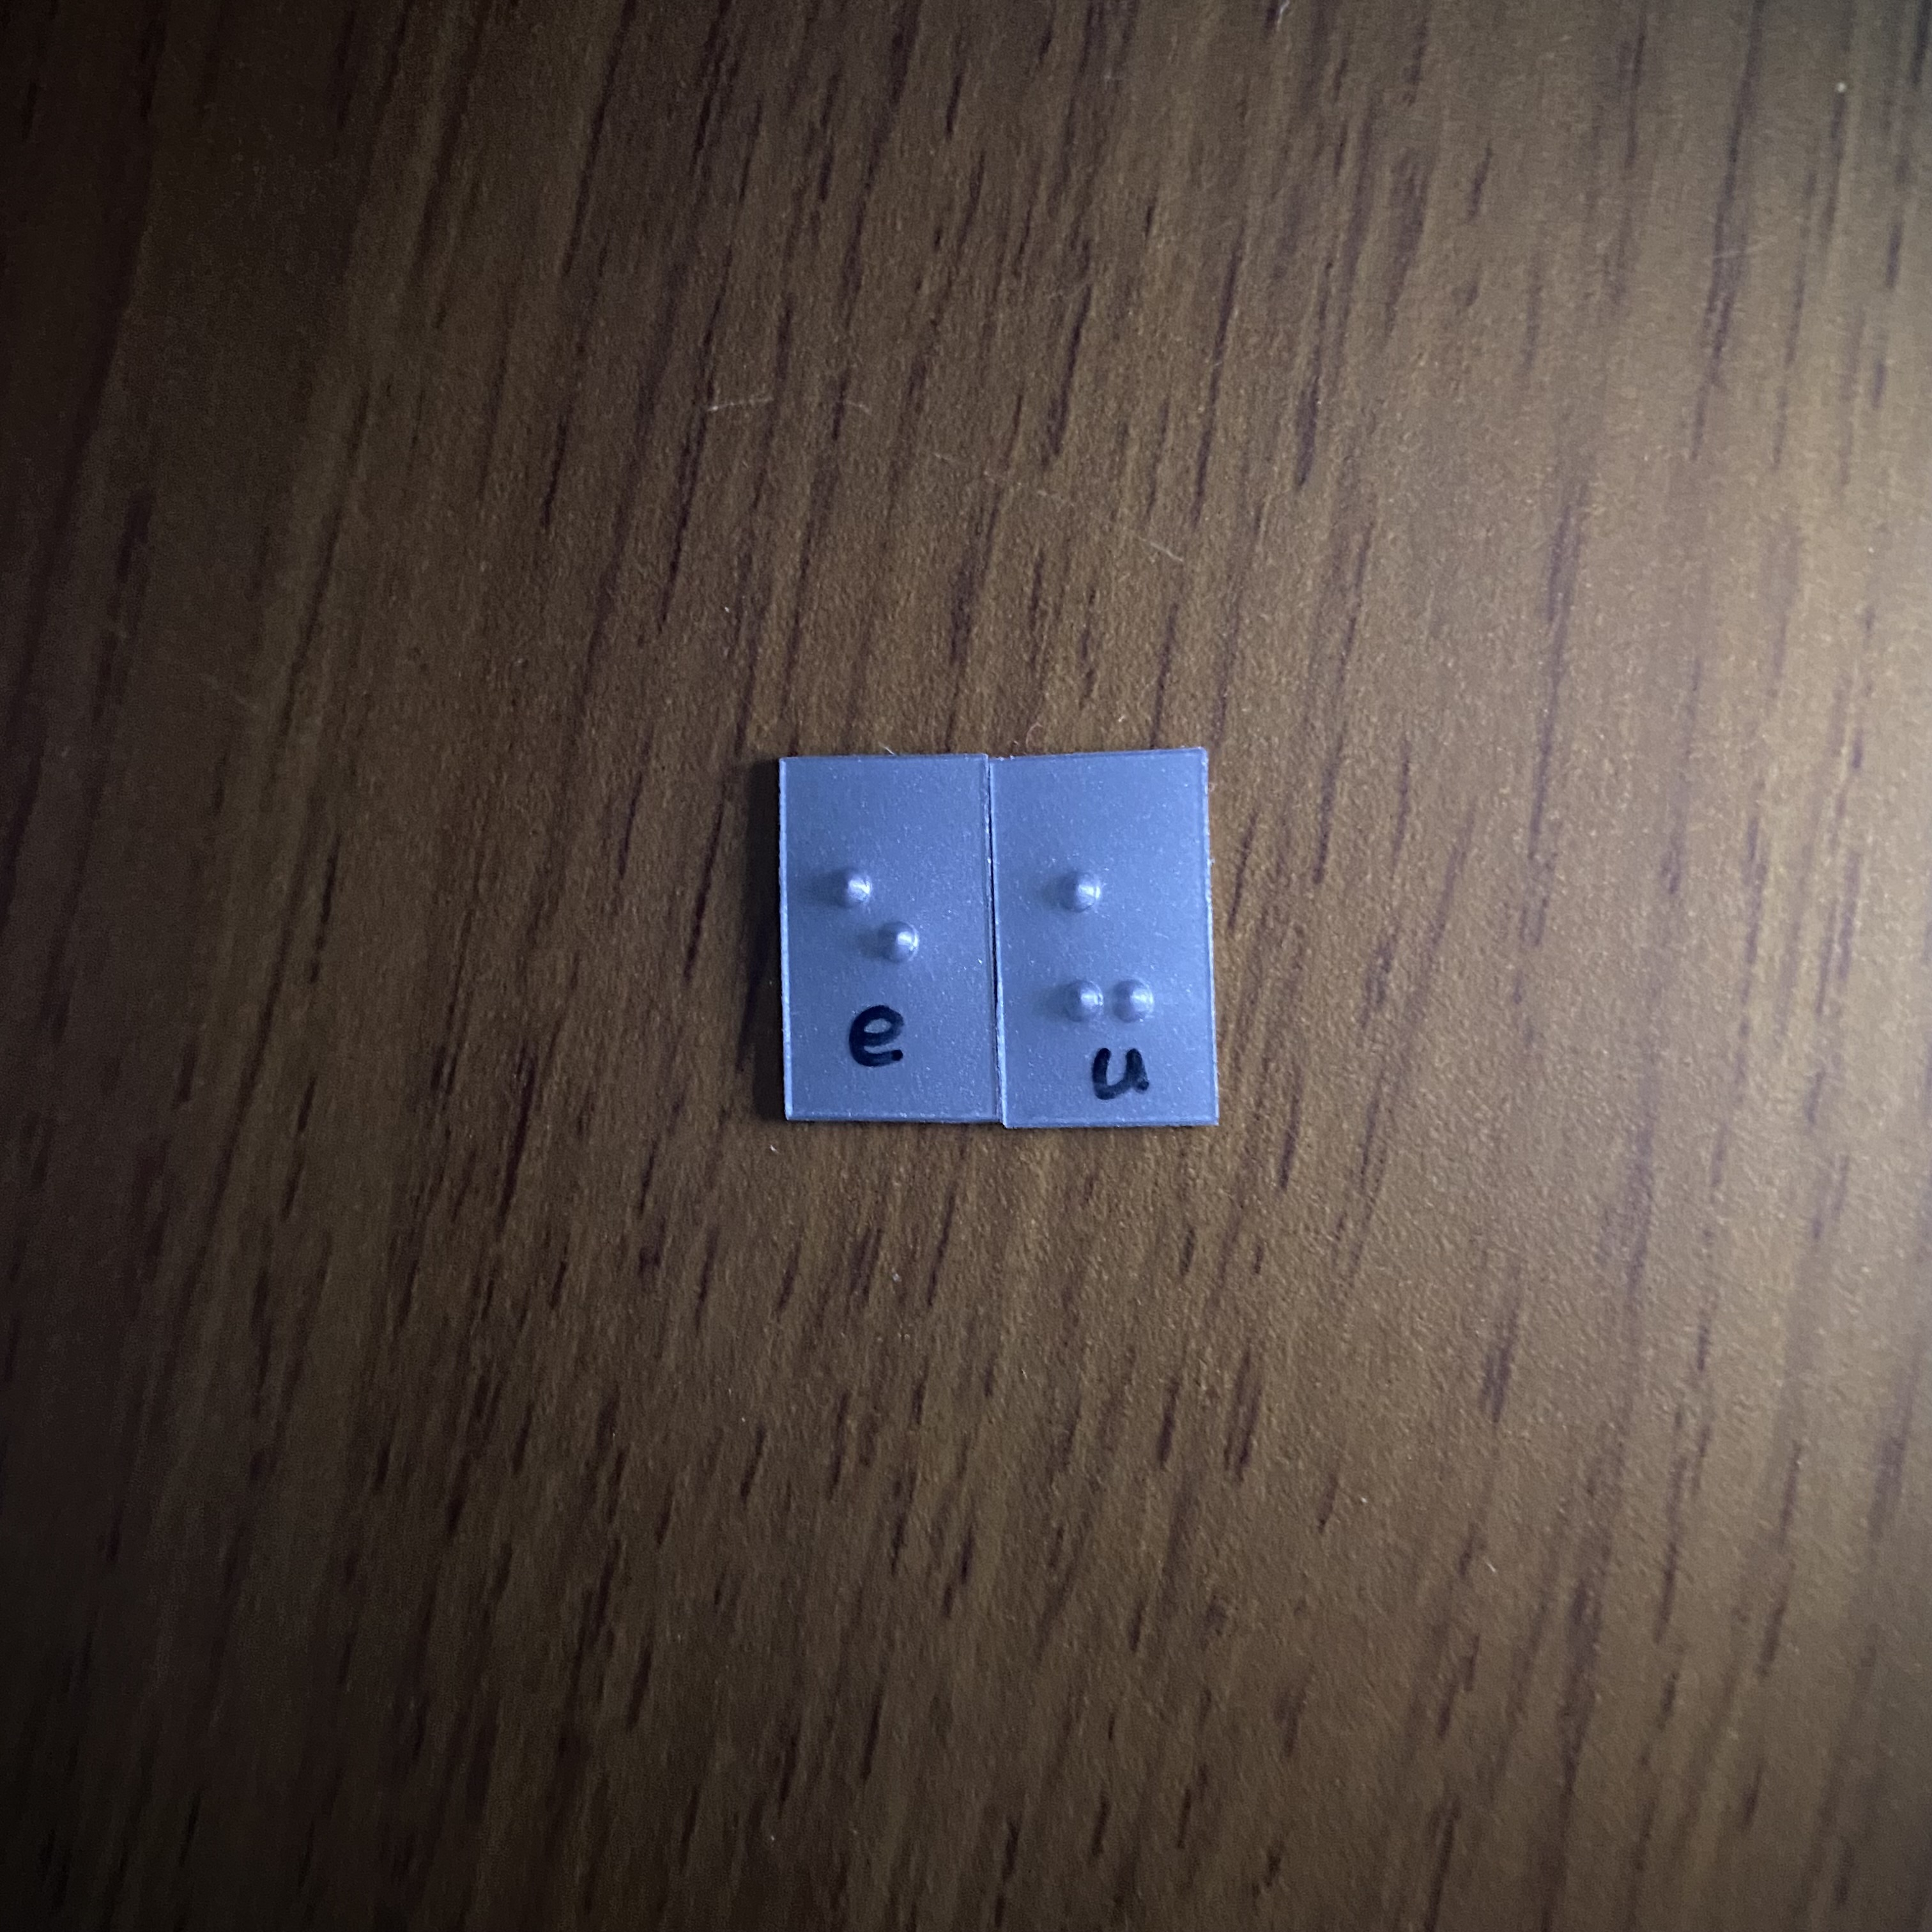e: (809, 848, 937, 1033)
u: (1036, 861, 1172, 1044)
